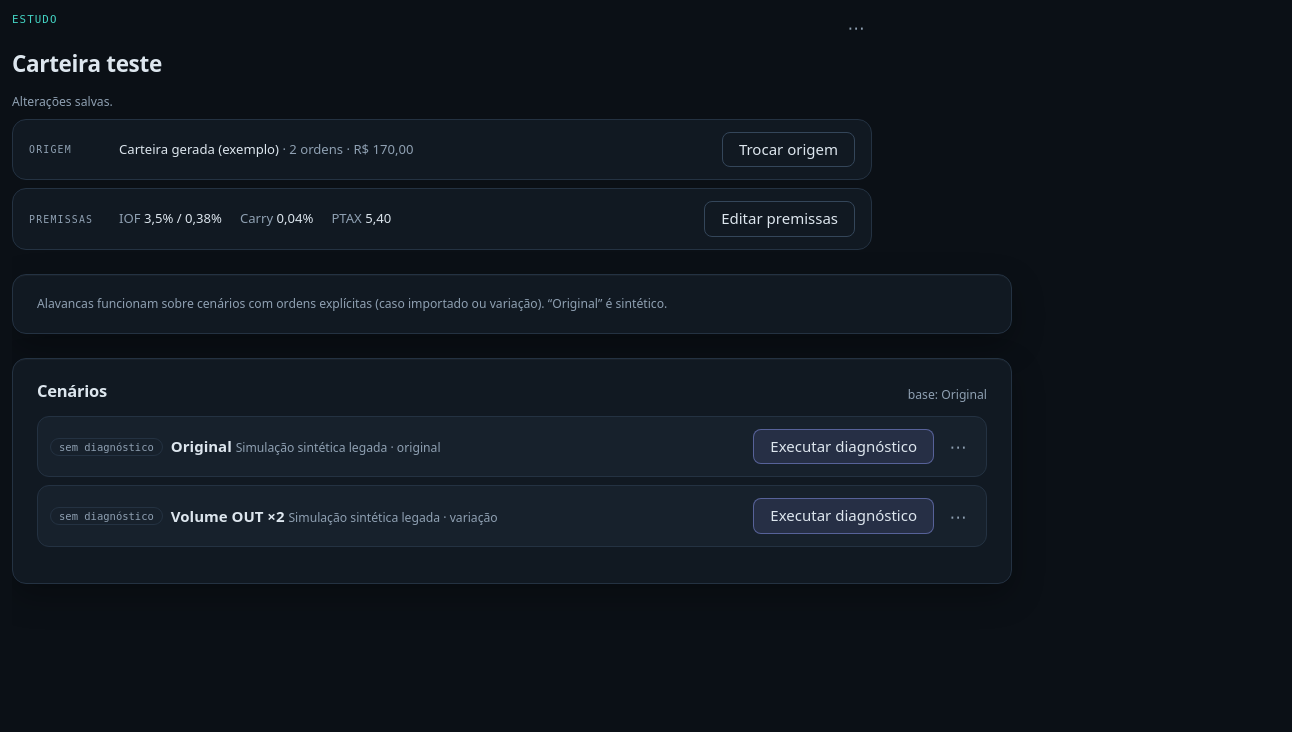
Test: StudyPortfolioPage · cenários › o original não pode ser apagado; a variação vira base pelo ⋯
Click the button named "Mais ações: Original": x=958, y=447 [942,431,974,463]
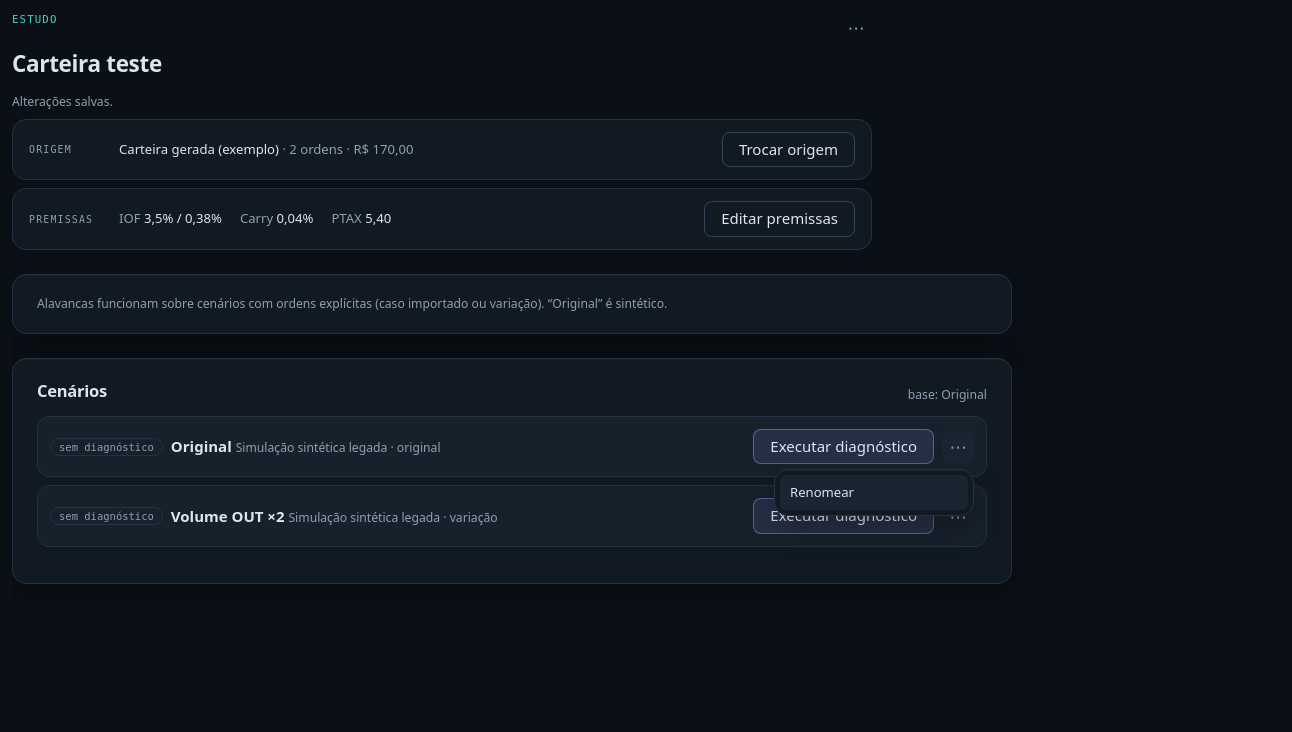
Check: the menu item "Apagar" is not shown
Check: the menu item with aria-label "Renomear cenário Original" is shown, box [780,475,968,510]
Press Escape
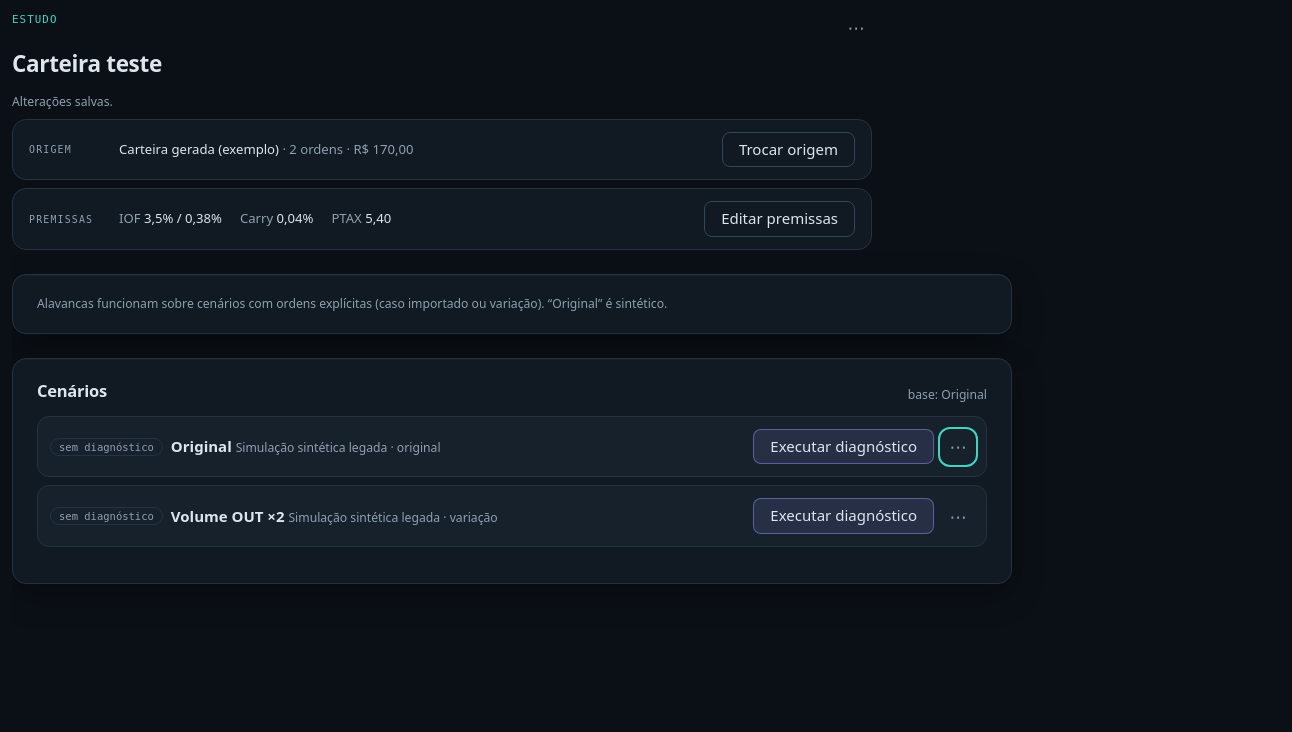
Click the button named "Mais ações: Volume OUT ×2": x=958, y=516 [942,500,974,532]
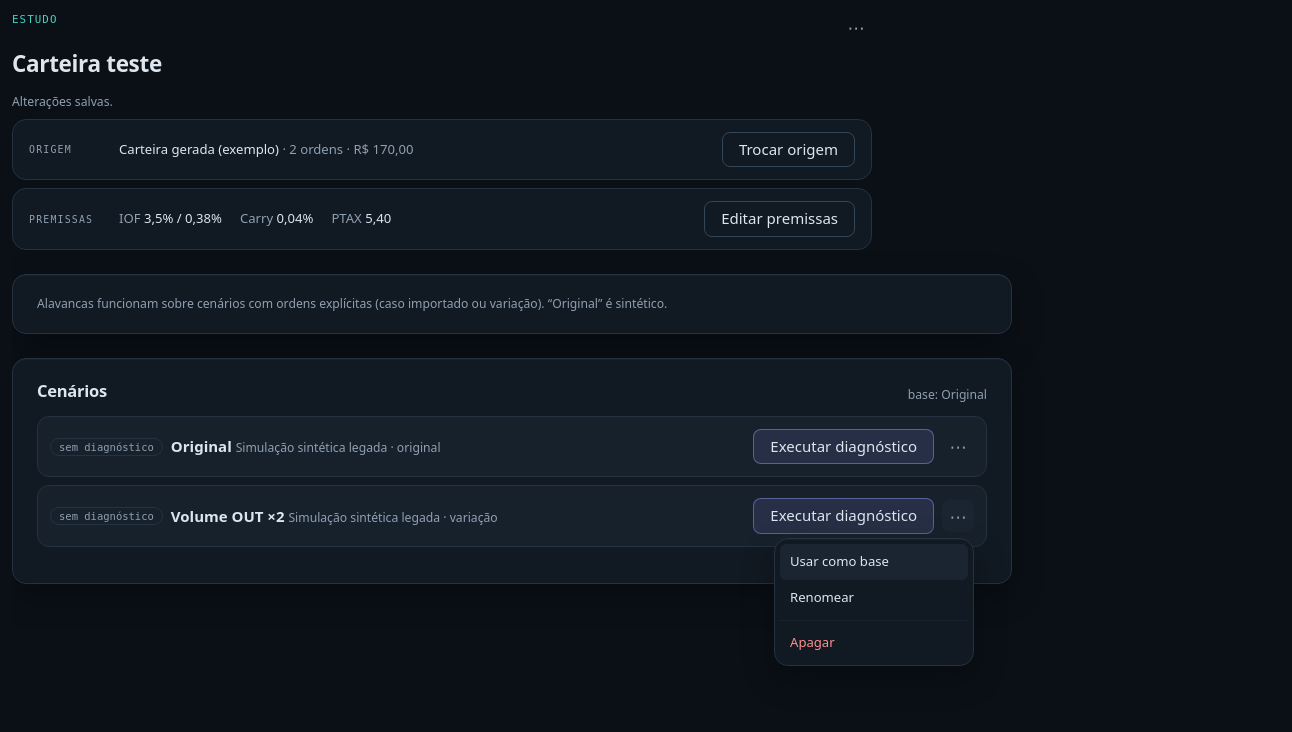
Check: the menu item with aria-label "Apagar cenário Volume OUT ×2" is shown, box [780,624,968,660]
Click the menu item "Usar como base": x=874, y=562 [780,544,968,580]
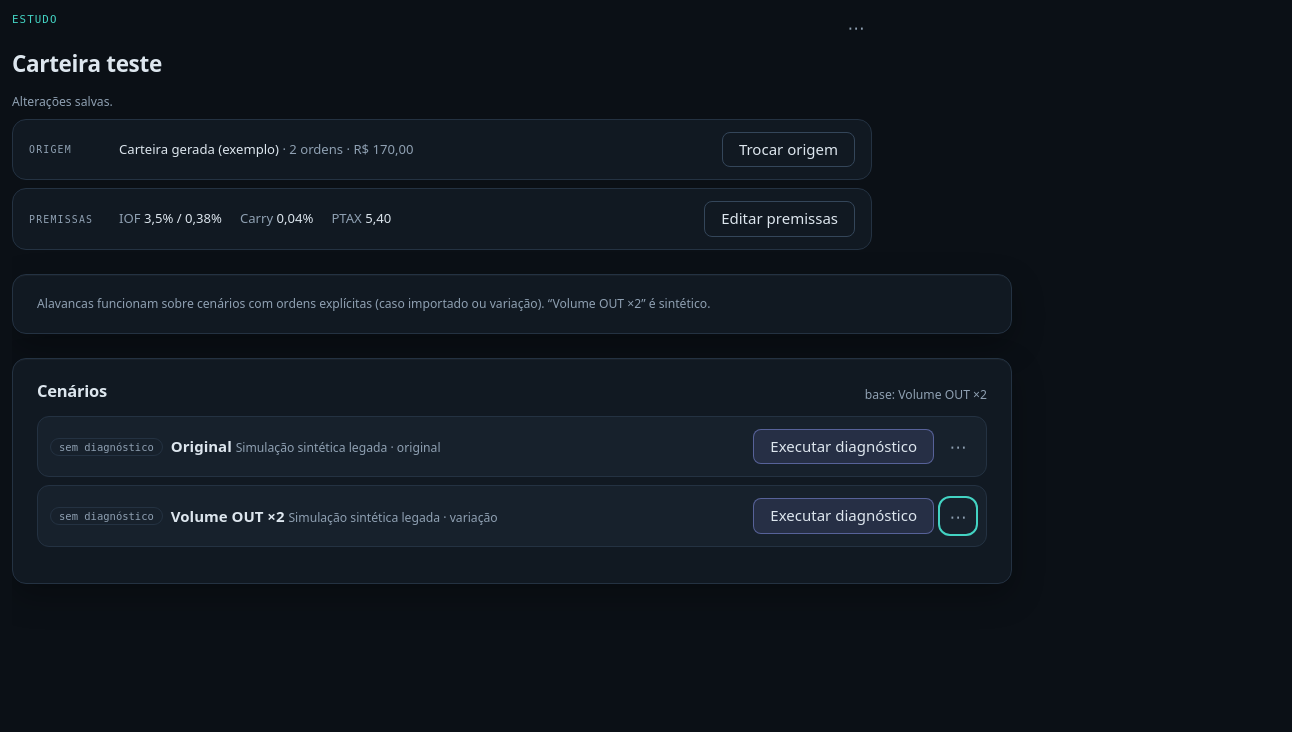
Check: the element named "Cenários do estudo" shows "base: Volume OUT ×2", box [12,358,1012,584]
